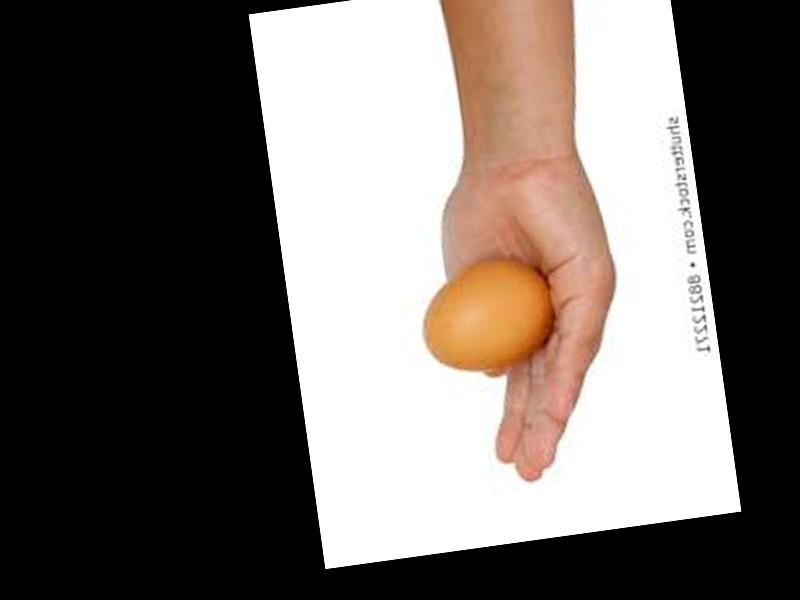Eggs: (413, 252, 562, 378)
